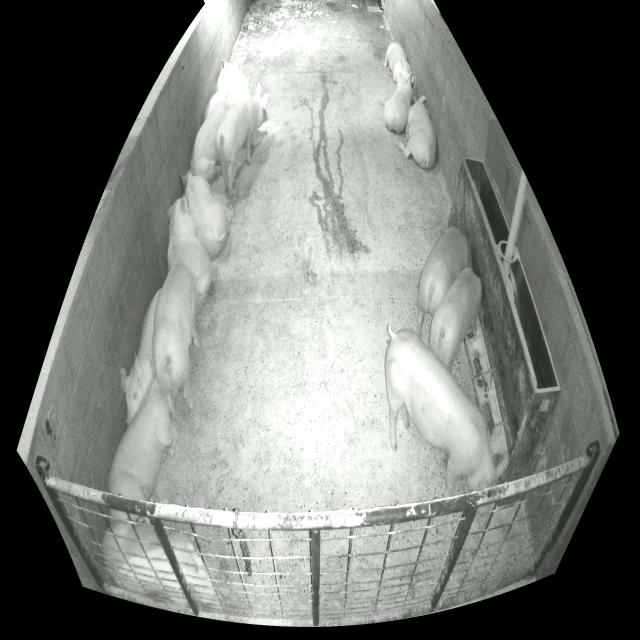pig: (385, 325, 508, 497), (103, 519, 215, 609), (108, 377, 177, 501), (148, 265, 199, 417), (416, 226, 469, 336), (217, 83, 268, 197), (429, 268, 482, 371), (120, 288, 160, 424), (168, 190, 212, 300), (190, 89, 235, 184), (180, 170, 228, 257), (397, 95, 436, 169), (384, 72, 414, 133), (215, 59, 251, 104), (384, 42, 411, 86), (204, 92, 226, 120)
